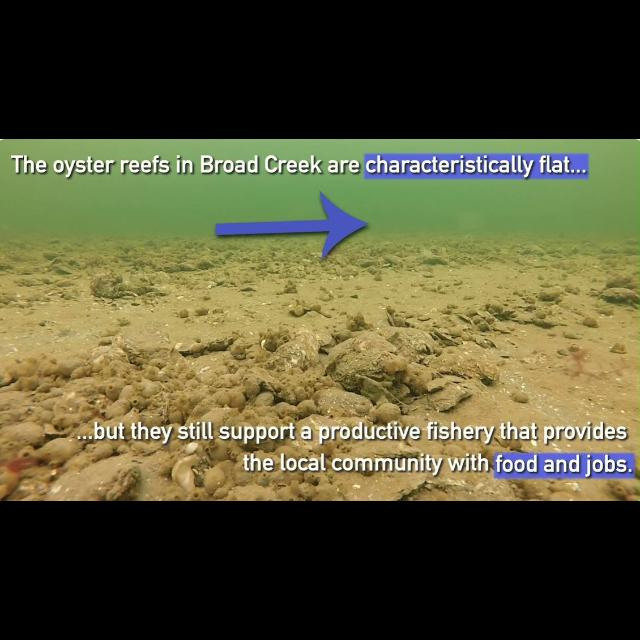Oyster-Closed: (325, 332, 396, 392), (331, 471, 439, 501), (70, 457, 141, 501), (429, 341, 499, 383), (356, 375, 409, 415), (379, 327, 439, 362), (122, 327, 174, 365), (314, 388, 372, 418), (191, 351, 239, 385), (87, 339, 129, 373), (265, 340, 310, 371), (428, 384, 471, 412), (33, 439, 82, 463), (171, 455, 200, 494), (1, 423, 45, 447), (295, 329, 320, 366), (90, 271, 122, 298), (0, 398, 31, 425), (515, 480, 551, 501), (201, 332, 240, 351), (0, 466, 19, 500), (600, 288, 639, 303), (605, 273, 638, 289), (51, 258, 81, 275), (175, 340, 206, 356), (125, 270, 151, 288), (417, 250, 447, 265), (42, 424, 71, 439), (310, 252, 340, 266), (470, 334, 496, 349), (537, 287, 564, 301), (548, 482, 580, 493), (548, 492, 586, 501), (527, 305, 549, 320), (205, 270, 226, 285), (510, 311, 534, 324), (336, 265, 359, 278), (519, 245, 545, 256), (223, 275, 246, 287), (473, 315, 489, 332), (385, 254, 404, 268), (0, 368, 14, 387), (125, 282, 146, 294), (490, 322, 511, 334), (478, 311, 496, 324), (196, 257, 214, 270), (485, 301, 504, 313), (511, 391, 529, 403), (583, 315, 599, 328), (42, 252, 65, 261), (457, 315, 475, 326), (161, 263, 180, 273), (359, 259, 379, 268), (610, 343, 626, 354), (180, 263, 196, 271), (206, 280, 217, 289), (144, 240, 156, 247), (204, 282, 217, 288), (49, 239, 60, 243), (195, 287, 200, 289)
Oyster-Open: (148, 284, 170, 297), (122, 290, 139, 297)
